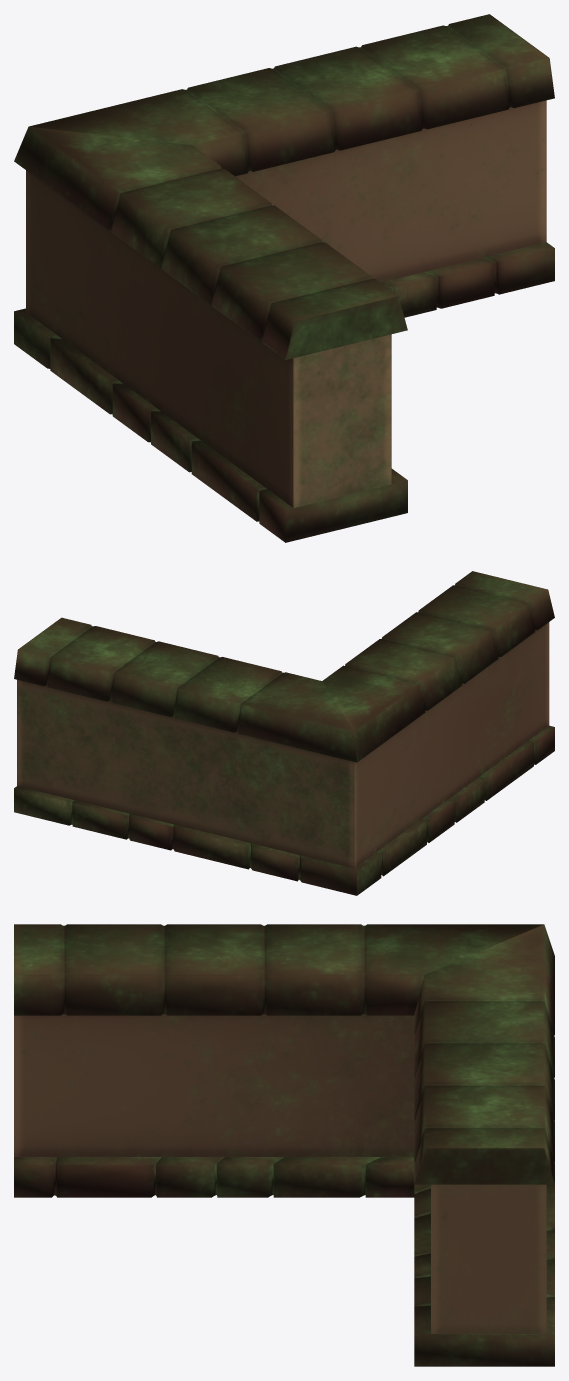
Rendered from ParedEsquinaPequeña.fbx.
3 renders of one model, top to bottom at view 1: azimuth 30°, elevation 25°; view 2: azimuth 150°, elevation 25°; view 3: azimuth 270°, elevation 25°, orthographic. The views are drawn at different scales.
Parts seen in each view (by area): view 1: Small_Corner_Wall.003; view 2: Small_Corner_Wall.003; view 3: Small_Corner_Wall.003.
Part boxes in pixels (x1,y1,x2,y2): Small_Corner_Wall.003: (14, 14, 554, 542); Small_Corner_Wall.003: (14, 571, 554, 895); Small_Corner_Wall.003: (14, 924, 554, 1366).
Bounding box in the file's own units: 5.41 × 2.41 × 5.41.
